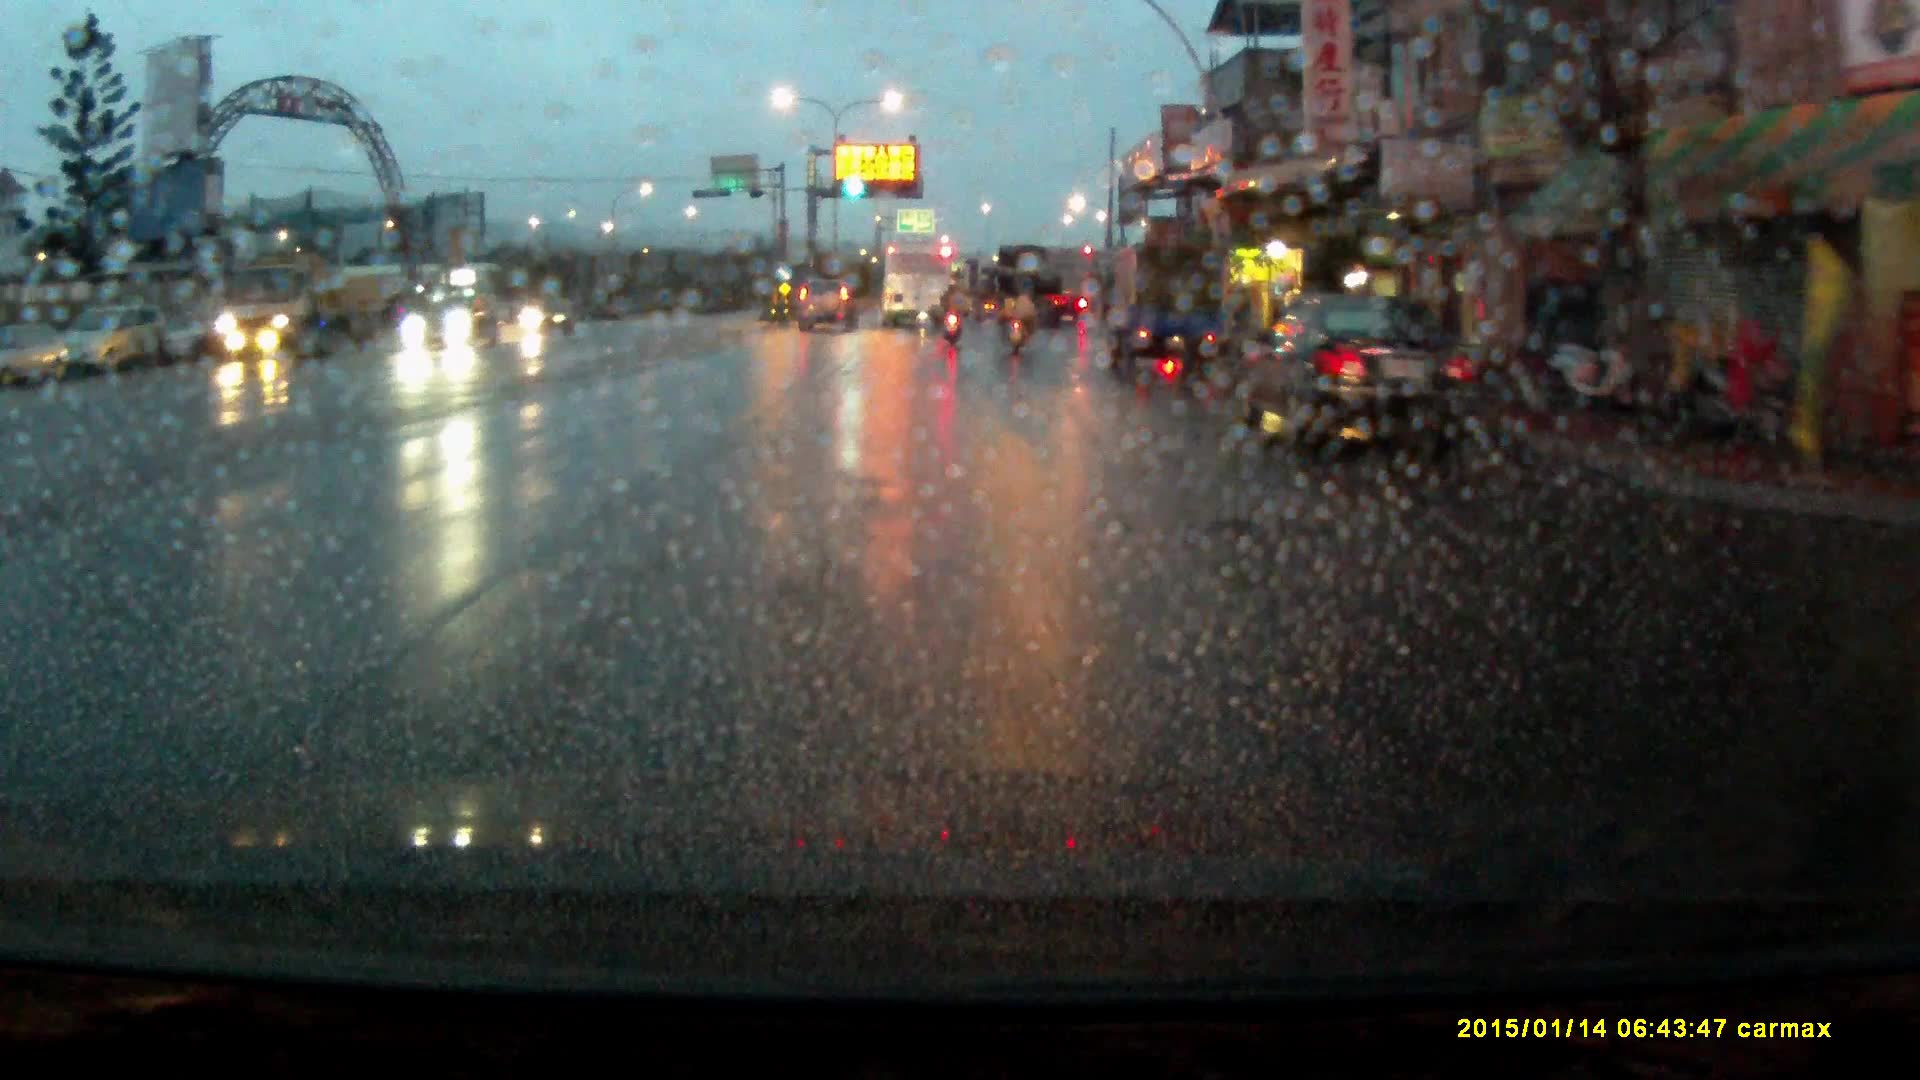rider: (996, 276, 1032, 359), (943, 280, 968, 349)
vehicle: (1241, 296, 1483, 461), (218, 257, 403, 363), (1104, 248, 1229, 373), (54, 309, 157, 382), (996, 245, 1067, 332), (398, 295, 502, 351), (882, 247, 950, 331), (796, 279, 860, 339), (520, 294, 578, 339)
